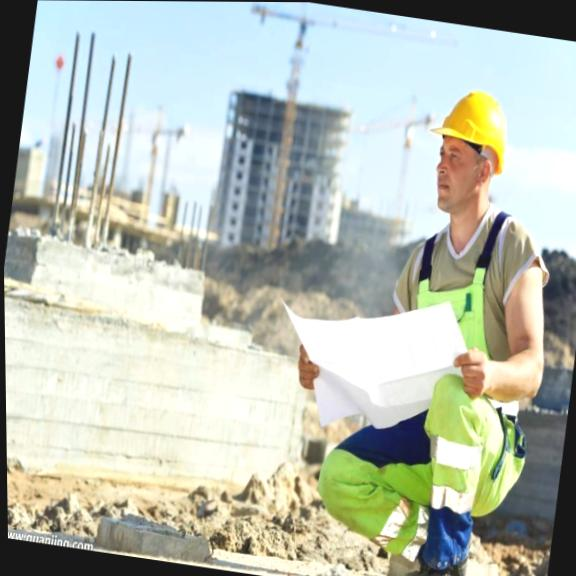no_safety_vest: (376, 196, 563, 416)
